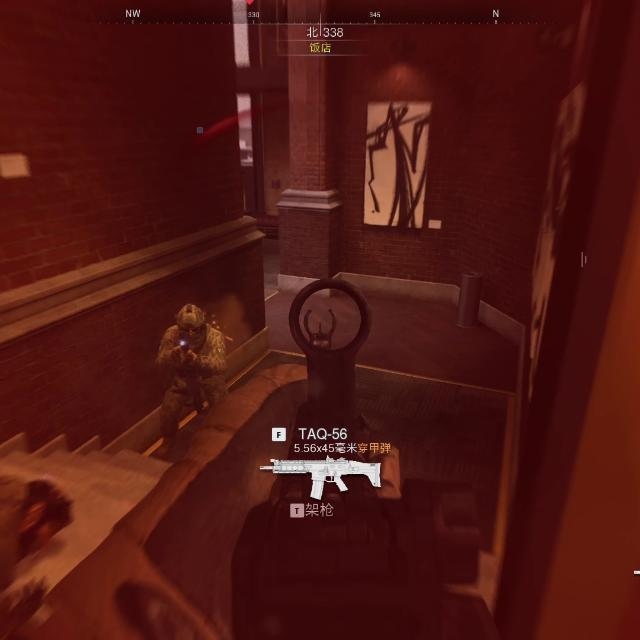MW2_body: (154, 303, 227, 453)
